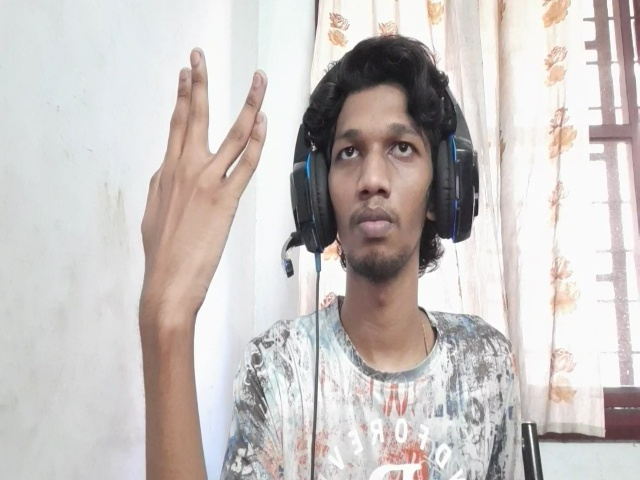LiveLong: (138, 46, 268, 305)
